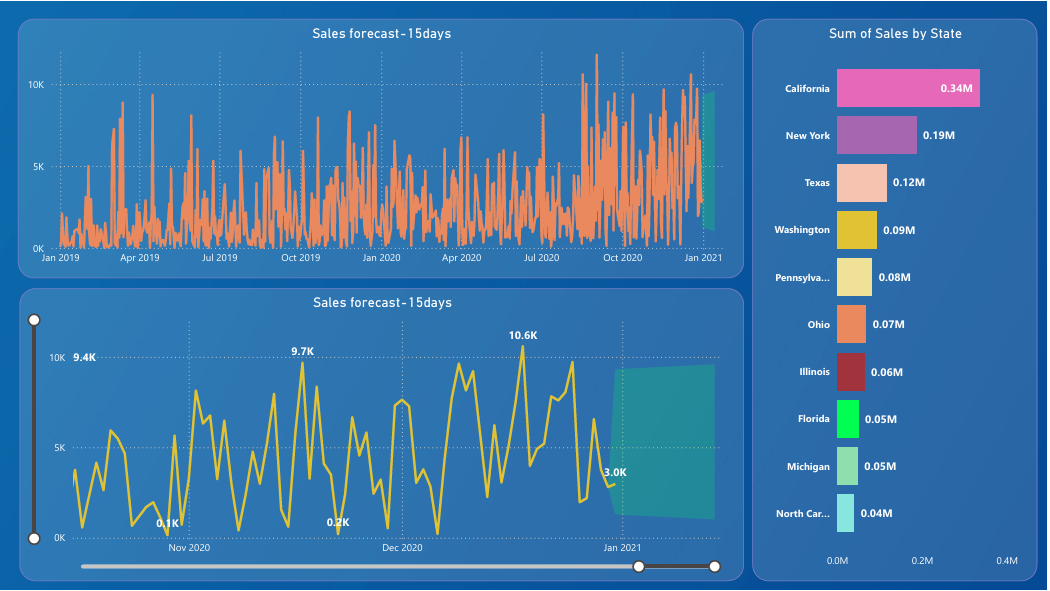

This screenshot's page, from the dashboard's own definition file:
{"tool":"powerbi","page":{"name":"Page 2","canvas":[1280,720],"ordinal":1},"visuals":[{"type":"lineChart","title":"Sales forecast-15days","fields":{"Y":["Sum(SuperStore_Sales_Dataset.Sales)"],"Category":["SuperStore_Sales_Dataset.Order Date"]},"box":[22.9,351.4,887.1,358.6],"z":0},{"type":"lineChart","title":"Sales forecast-15days","fields":{"Y":["Sum(SuperStore_Sales_Dataset.Sales)"],"Category":["SuperStore_Sales_Dataset.Order Date"]},"box":[21.4,21.4,888.6,317.1],"z":1000},{"type":"clusteredBarChart","fields":{"Category":["SuperStore_Sales_Dataset.State"],"Y":["Sum(SuperStore_Sales_Dataset.Sales)"]},"box":[920,21.4,348.6,688.6],"z":2000}]}

Visuals, with their boxes in screenshot pixels (x1, y1, x2, y2), scaled from the page's 1280x720 canvas onto the 1050x591 screenshot:
"Sales forecast-15days" lineChart: [x1=19, y1=288, x2=746, y2=583]
"Sales forecast-15days" lineChart: [x1=18, y1=18, x2=746, y2=278]
clusteredBarChart - SuperStore_Sales_Dataset.State x Sum(SuperStore_Sales_Dataset.Sales): [x1=755, y1=18, x2=1041, y2=583]
